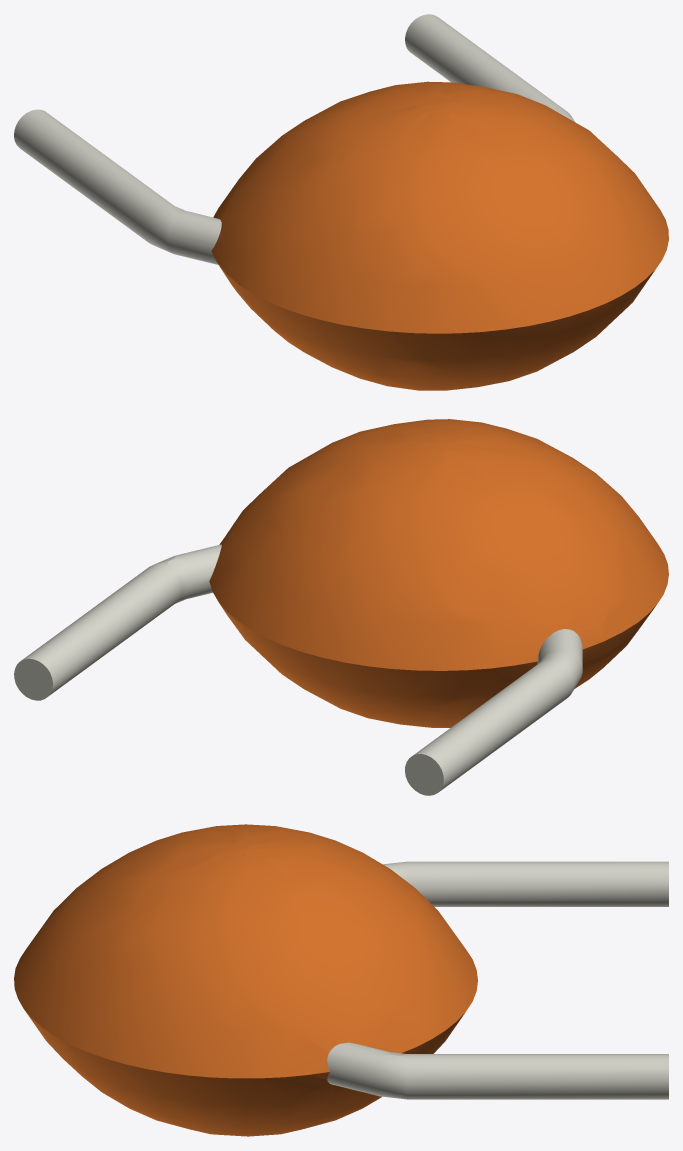
The model's file is c-disc-d5.1-w3.2-p5.00.glb.
The picture shows the model from 3 angles, top to bottom: view 1: azimuth 30°, elevation 25°; view 2: azimuth 150°, elevation 25°; view 3: azimuth 270°, elevation 25°; orthographic projection.
Parts seen in each view (by area): view 1: PLASTIC-ORANGE-01, PIN-01; view 2: PLASTIC-ORANGE-01, PIN-01; view 3: PLASTIC-ORANGE-01, PIN-01.
Boxes of the visible parts, <box> form: PLASTIC-ORANGE-01: <box>211,81,668,390</box>; PIN-01: <box>14,14,575,264</box>; PLASTIC-ORANGE-01: <box>209,419,668,727</box>; PIN-01: <box>14,544,582,795</box>; PLASTIC-ORANGE-01: <box>14,824,477,1136</box>; PIN-01: <box>327,861,668,1099</box>.
Size of the model in its own units: 5.5 by 3.2 by 7.2.
